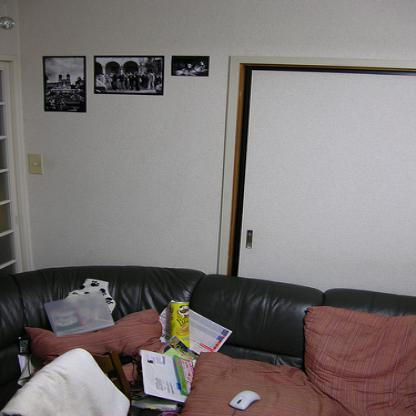sofa: (0, 266, 415, 416)
